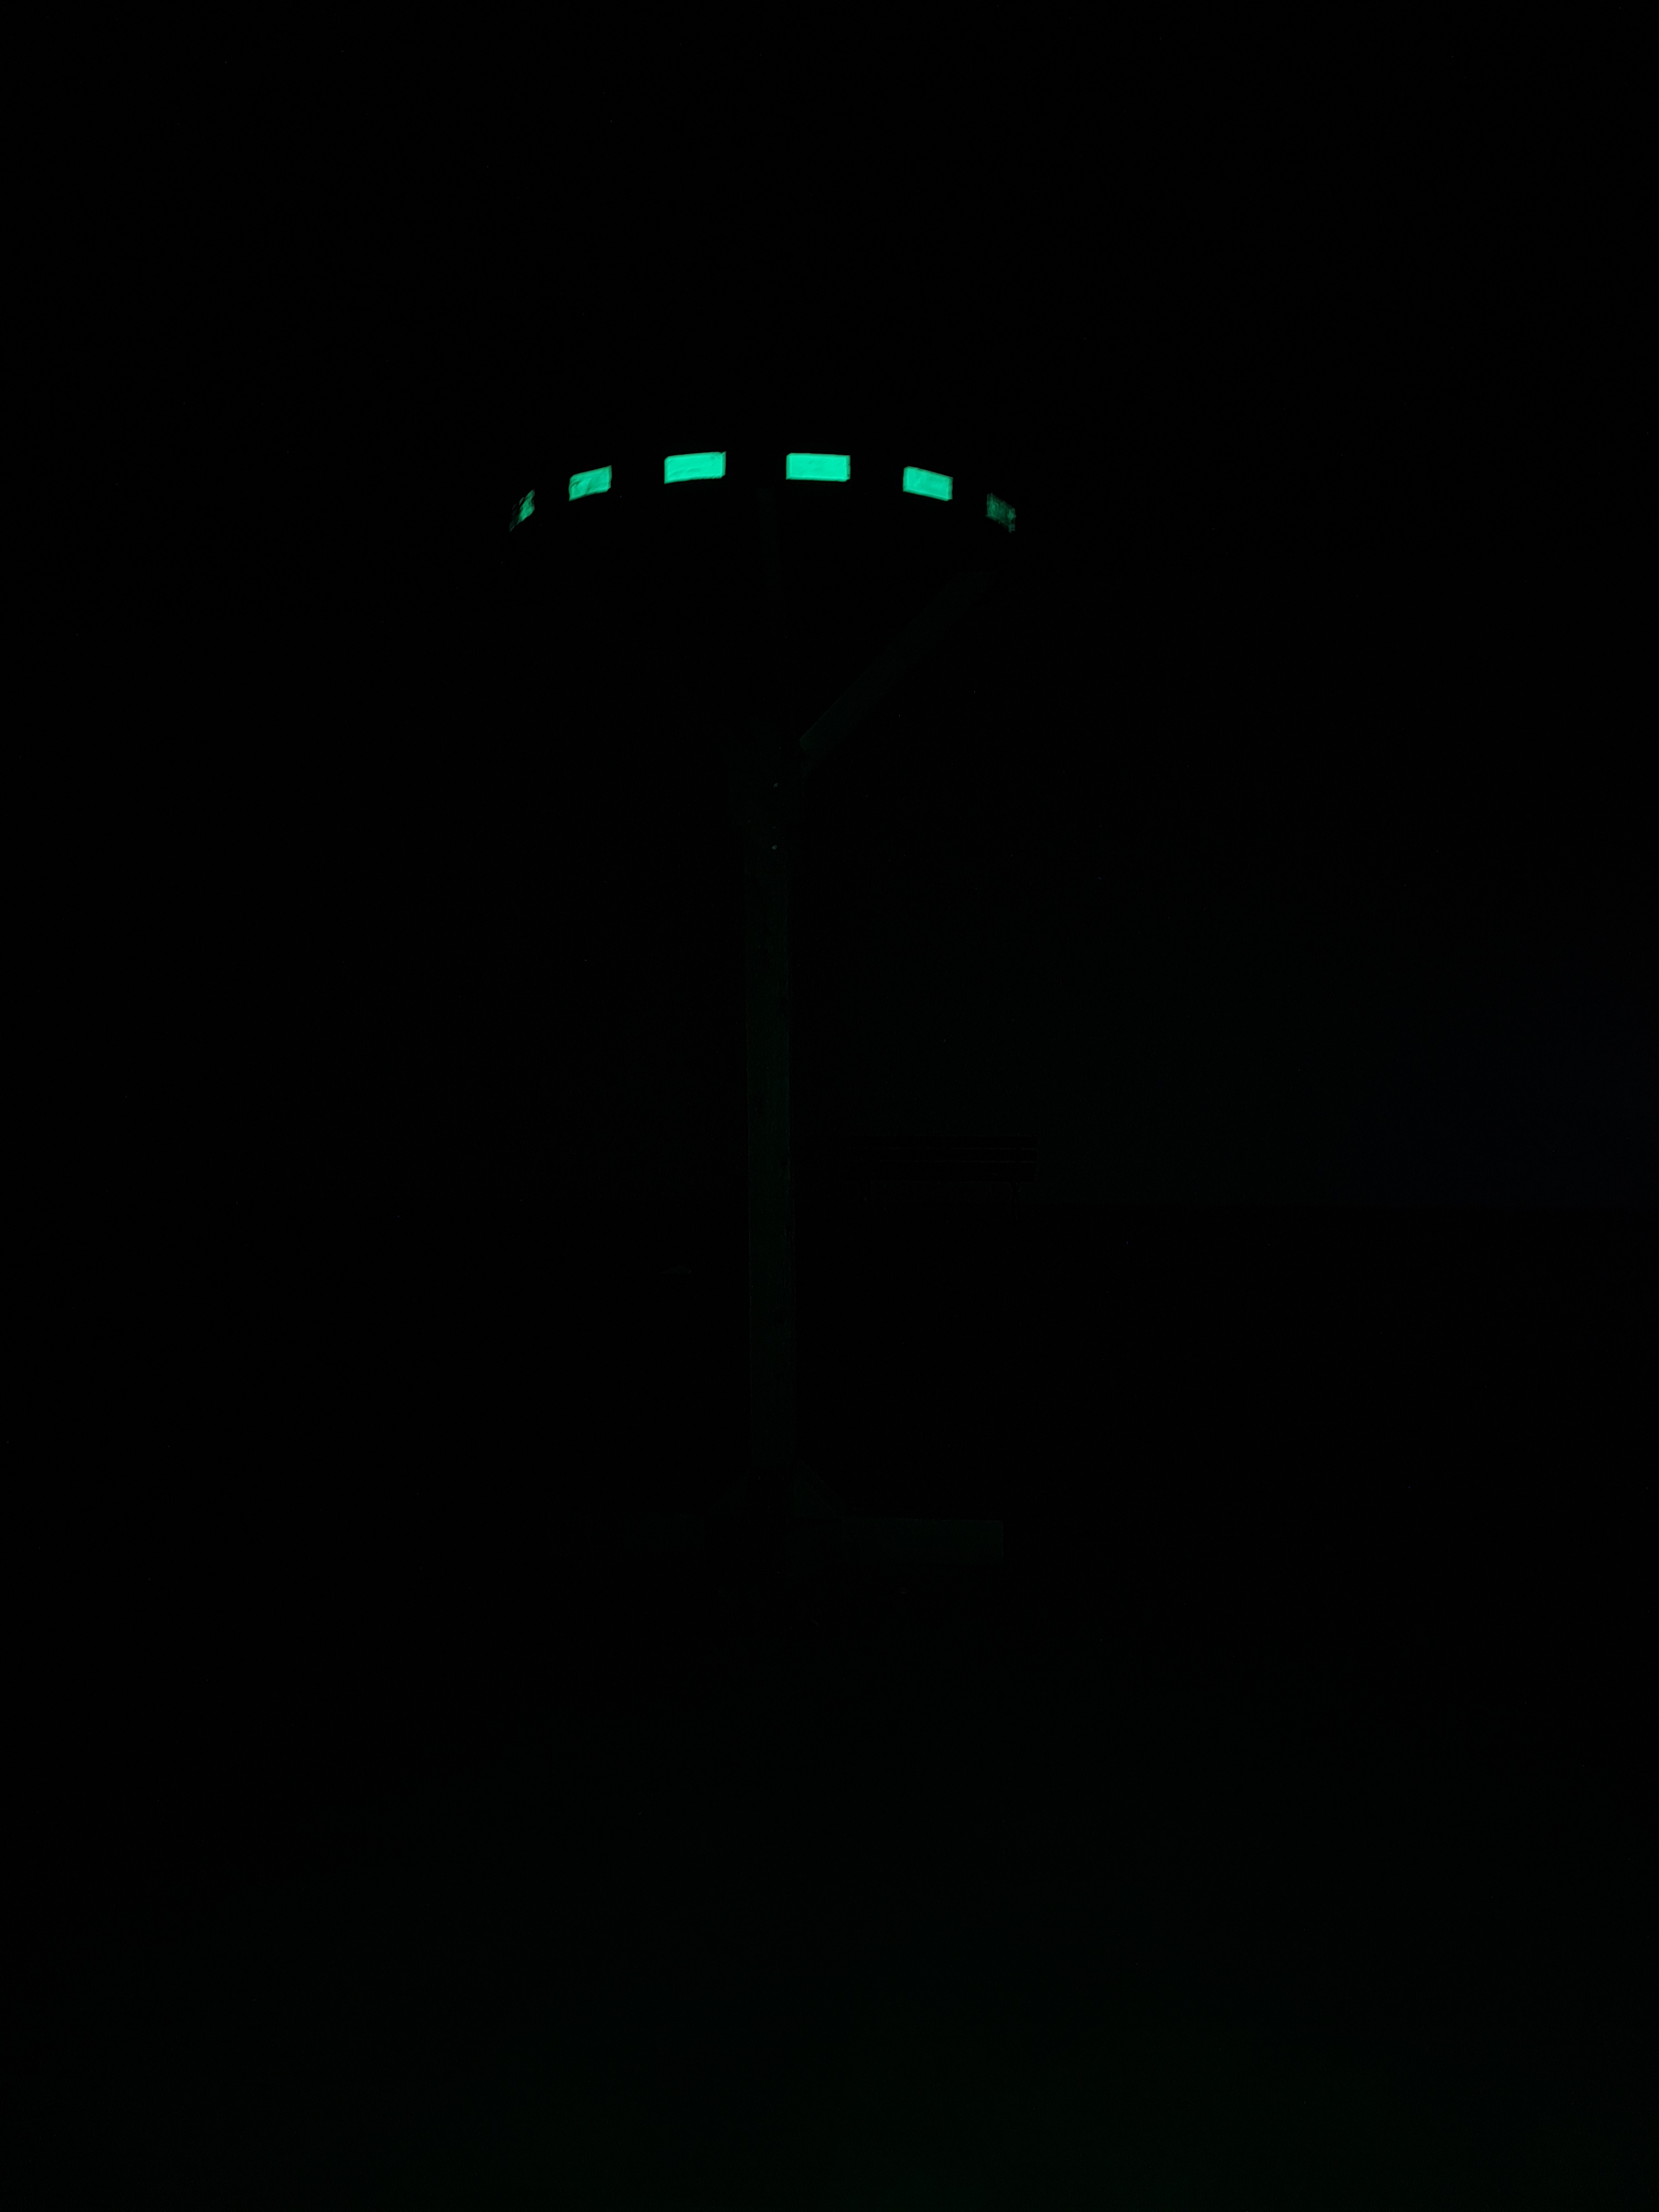hoop: (500, 441, 1019, 554)
